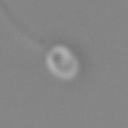normal: (1, 1, 51, 52)
